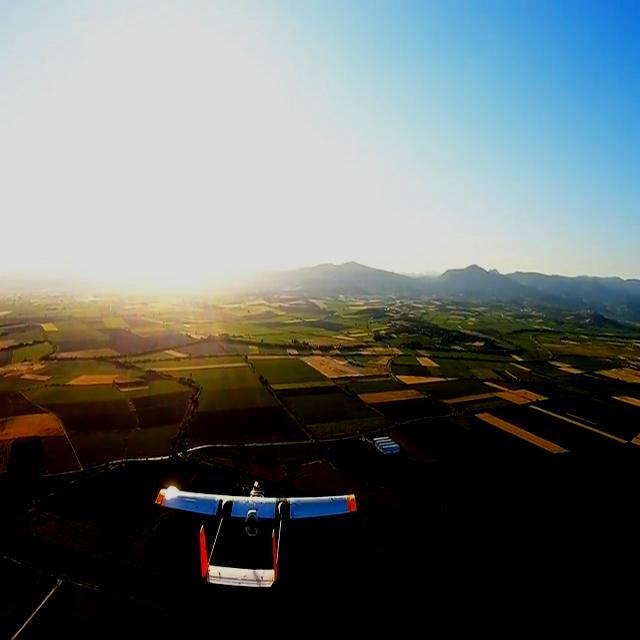iha: (144, 509, 366, 562)
